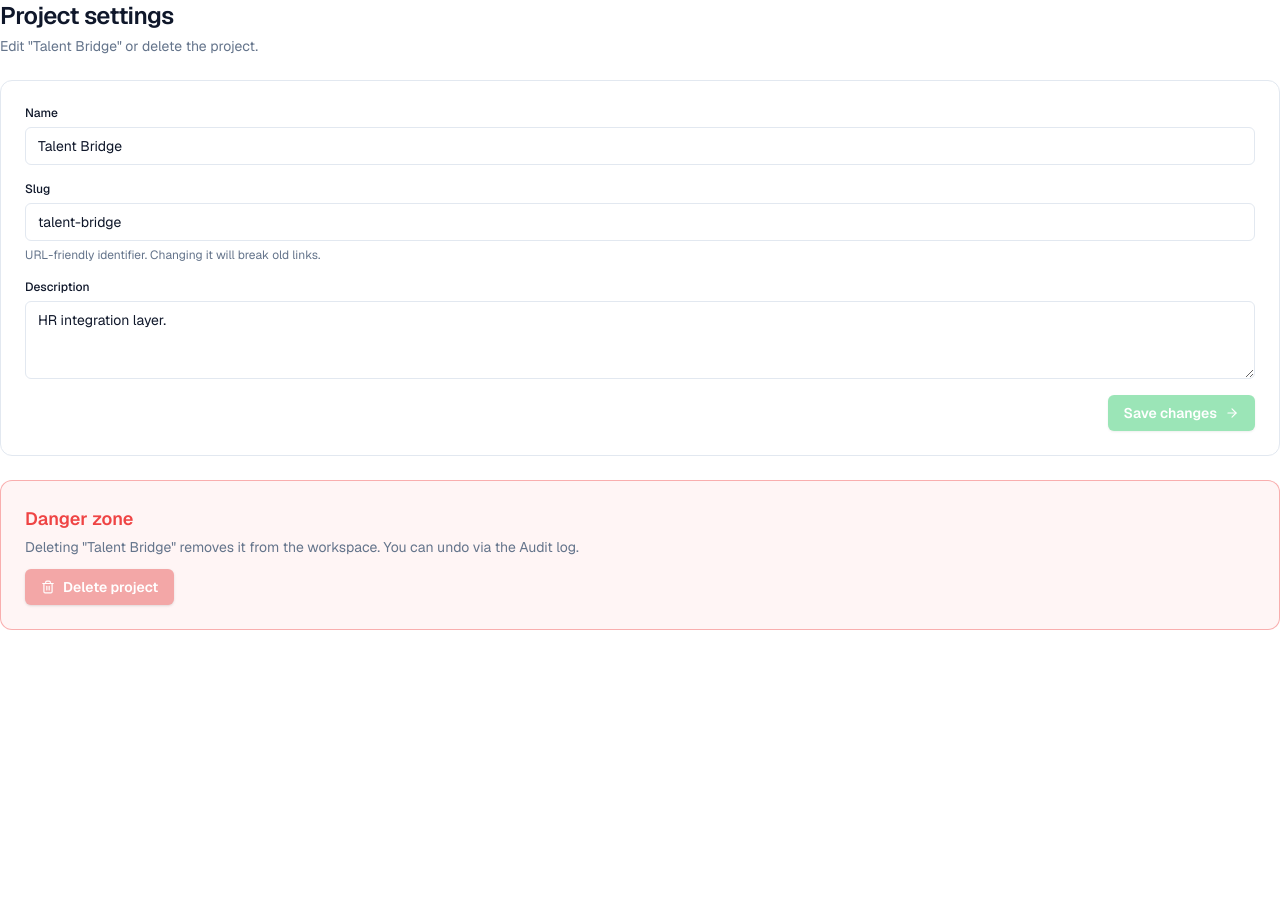
Scenario: ProjectSettingsPage › should keep confirm disabled until acknowledge checkbox is checked
The image size is (1280, 900).
expect the field labelled "Name" is shown: met, box [25,127,1255,165]
Click the button "Delete project": (100, 587) [25,569,174,605]
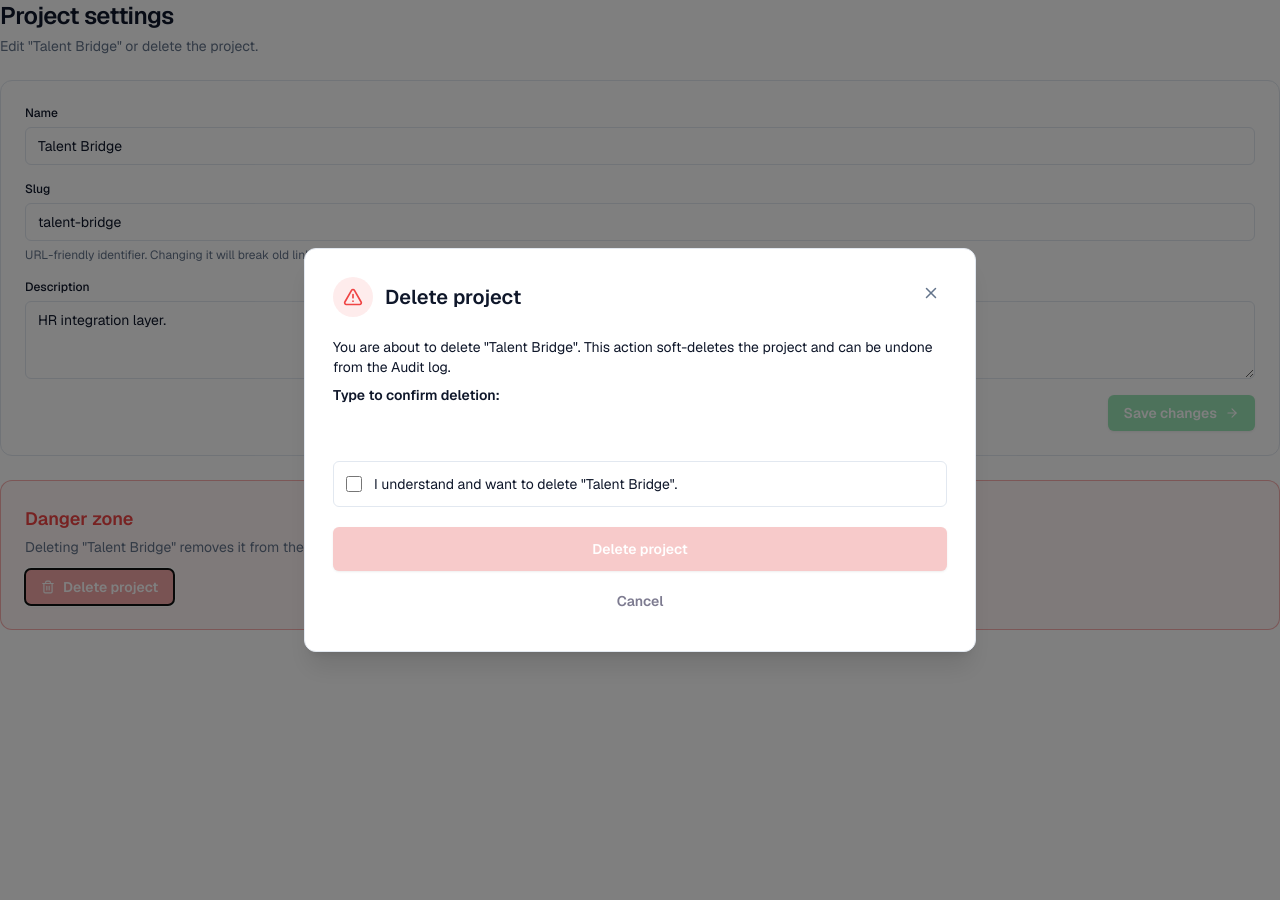
expect the button "Delete project" is disabled: met, box [333,527,947,571]
Click the checkbox: (354, 484) [346,476,362,492]
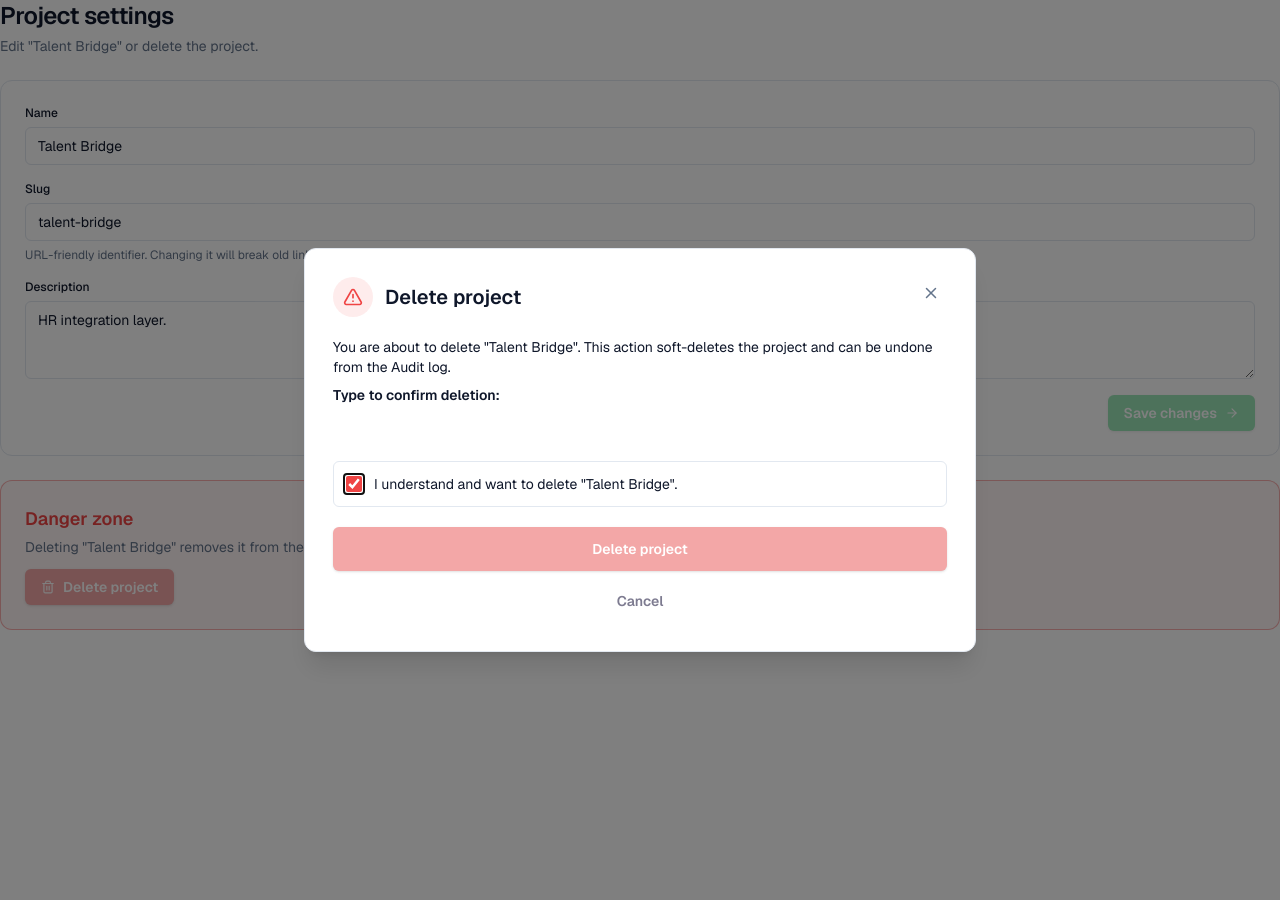
expect the button "Delete project" is enabled: met, box [333,527,947,571]
